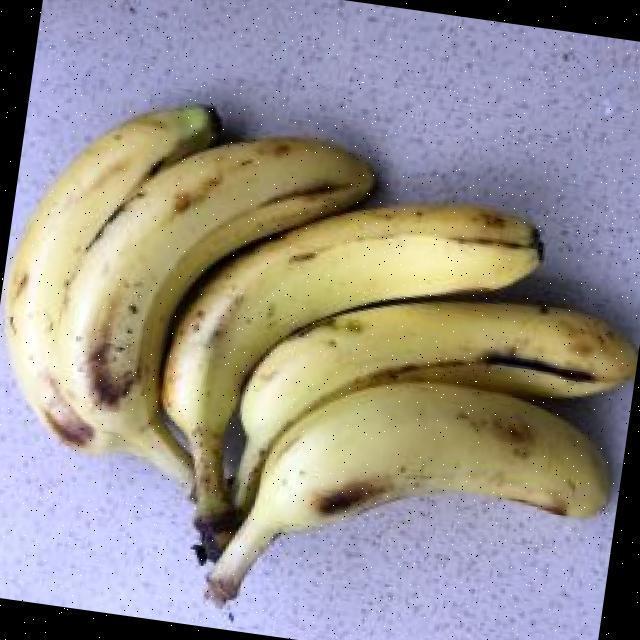banana: (161, 210, 537, 524), (57, 139, 370, 483), (207, 382, 608, 604), (235, 302, 638, 504), (7, 109, 217, 450)
